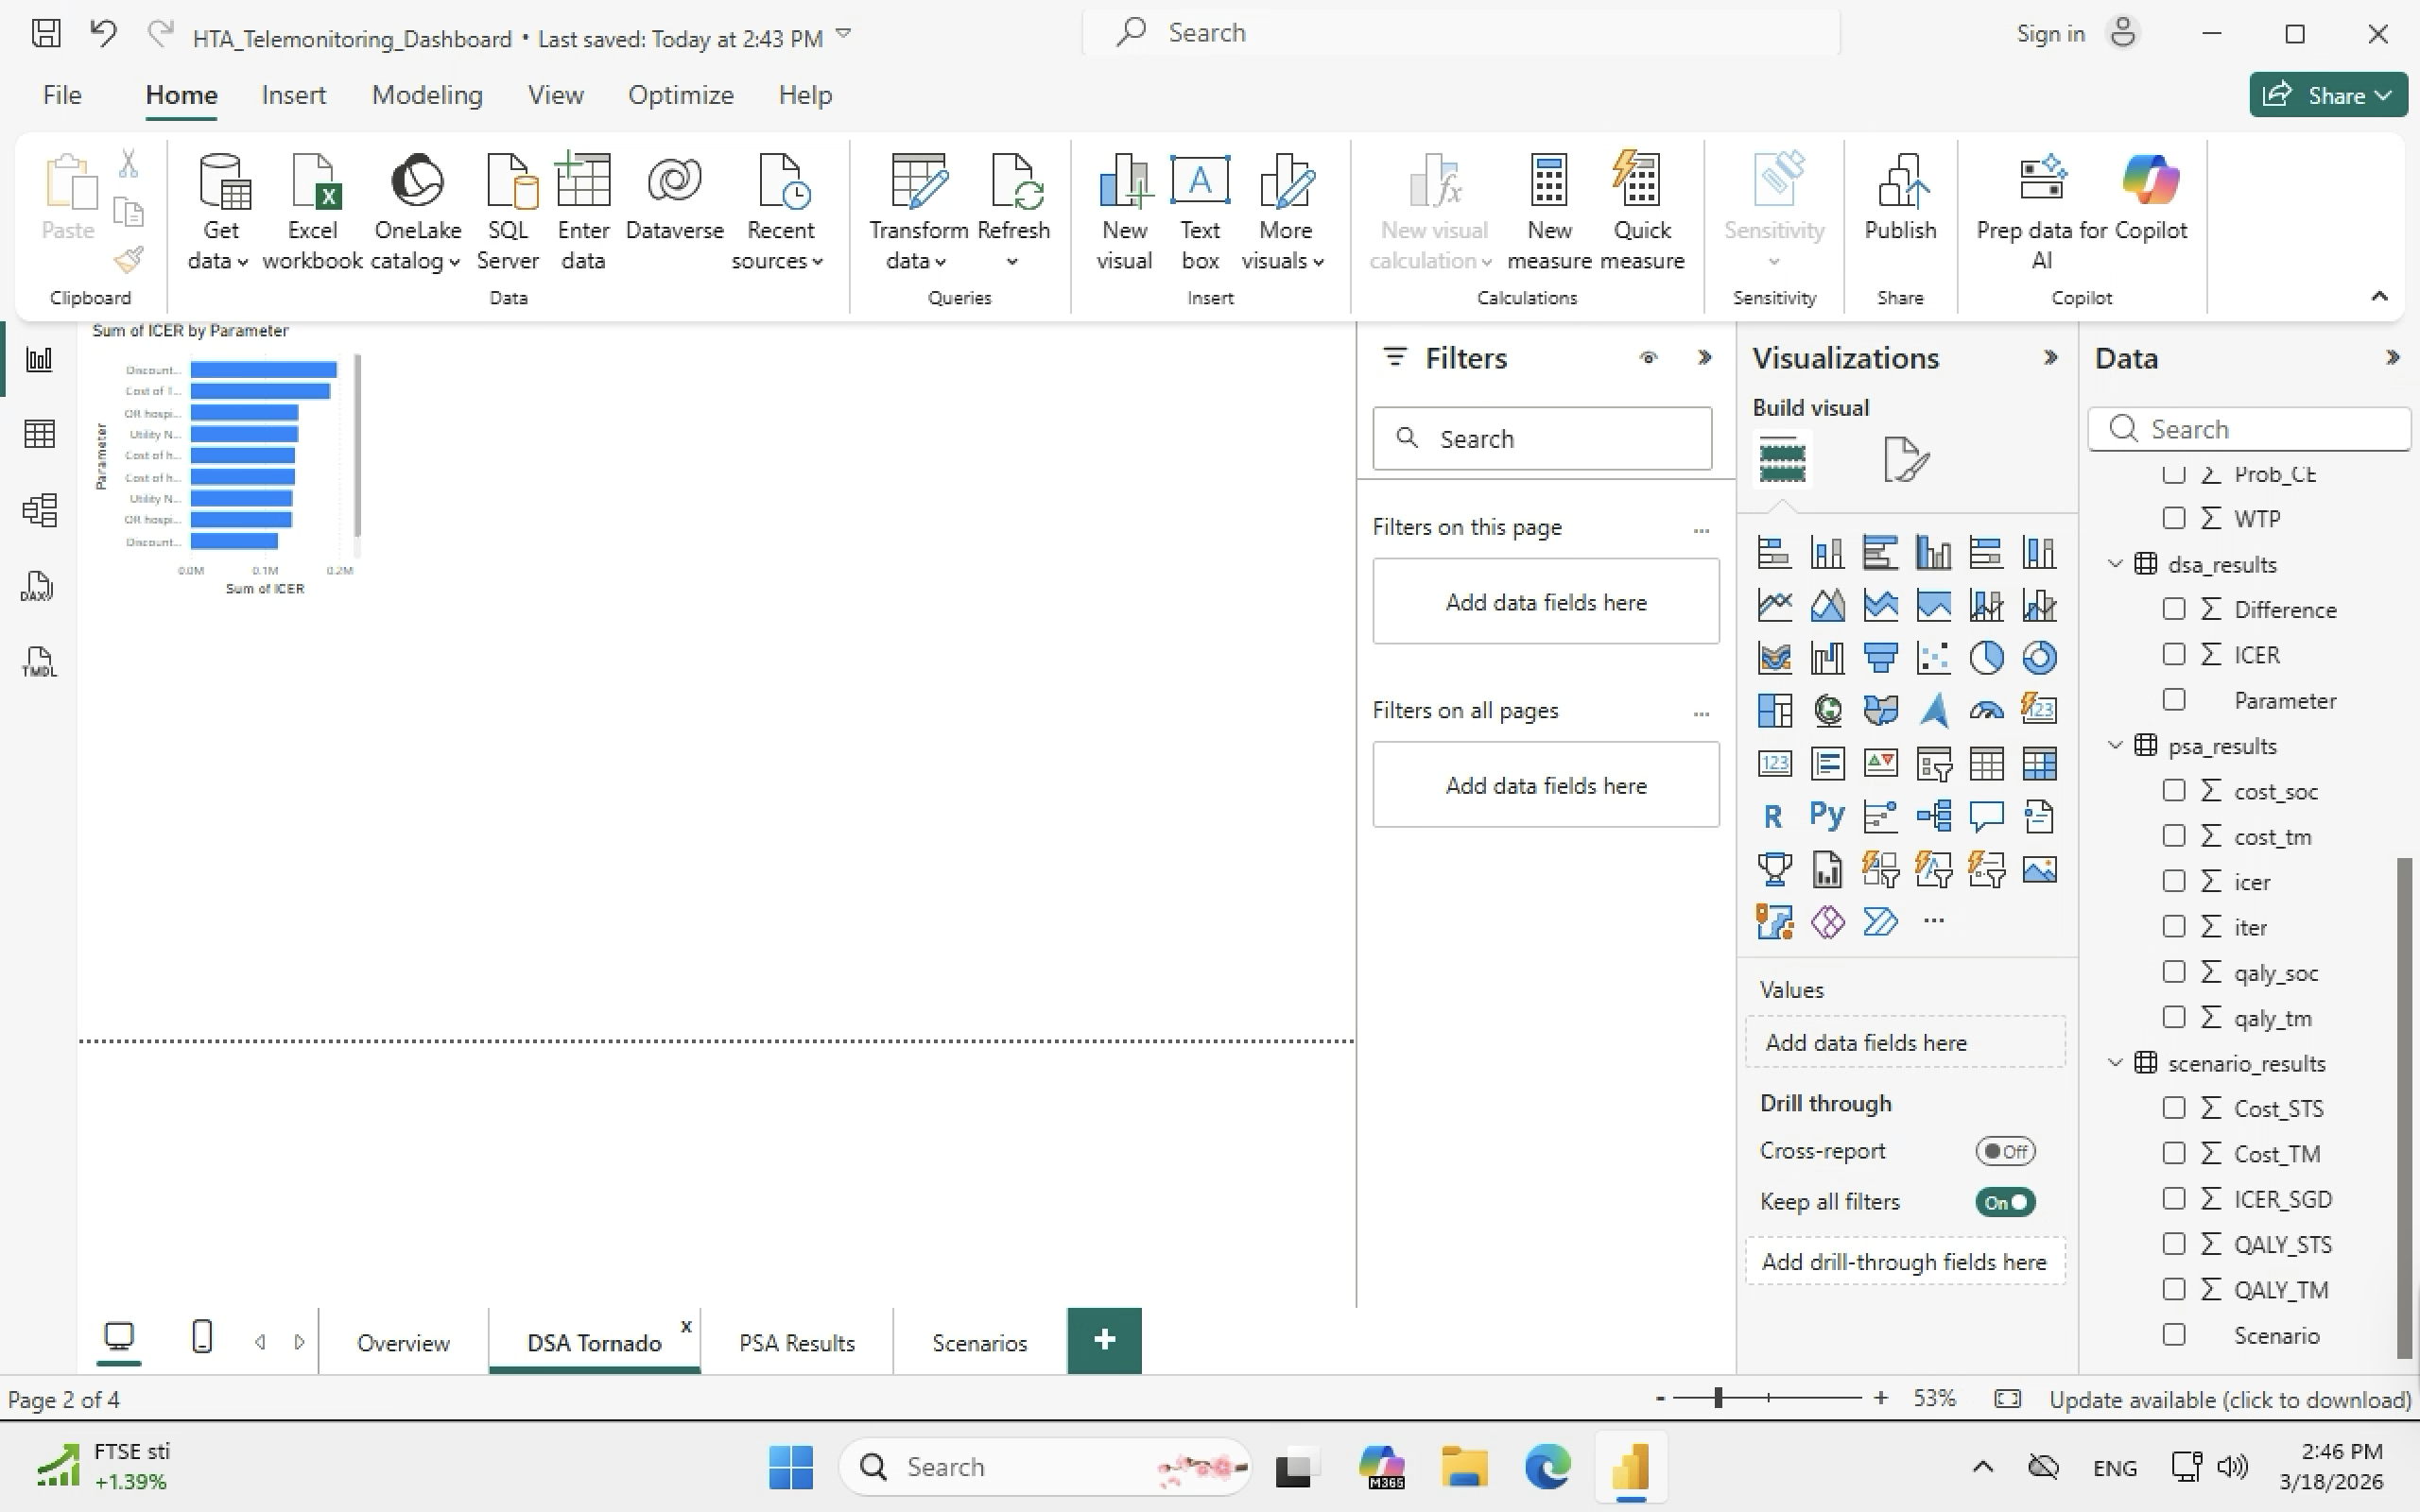

The dashboard page shown, as its layout file describes it:
{"tool":"powerbi","page":{"name":"DSA Tornado","canvas":[1280,720],"ordinal":1},"visuals":[{"type":"clusteredBarChart","fields":{"Y":["Sum(dsa_results.ICER)"],"Category":["dsa_results.Parameter"]},"box":[10,0,280,280],"z":0}]}

Visuals, with their boxes on the page's 1280x720 design canvas (x1, y1, x2, y2). These are canvas units, not pixel positions in the 2420x1512 screenshot, which may show the page scaled, cropped or inside an application window:
clusteredBarChart - Sum(dsa_results.ICER) x dsa_results.Parameter: detection(10, 0, 290, 280)
